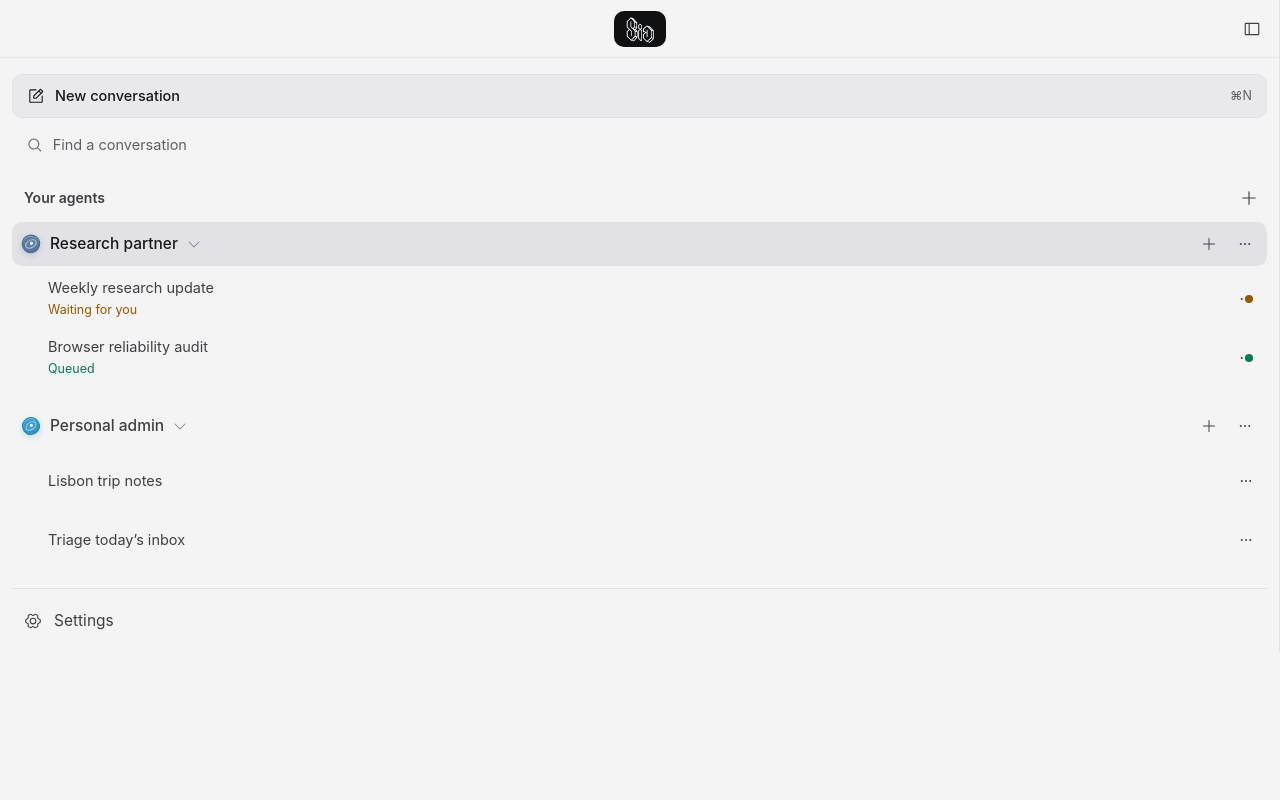
Test: thread navigation › names agent actions as agent actions
This screenshot has width=1280, height=800.
Press the mouse on the button named "Agent actions for Research partner" at [1245, 244], box top-left (1227, 226), bottom-right (1263, 262)
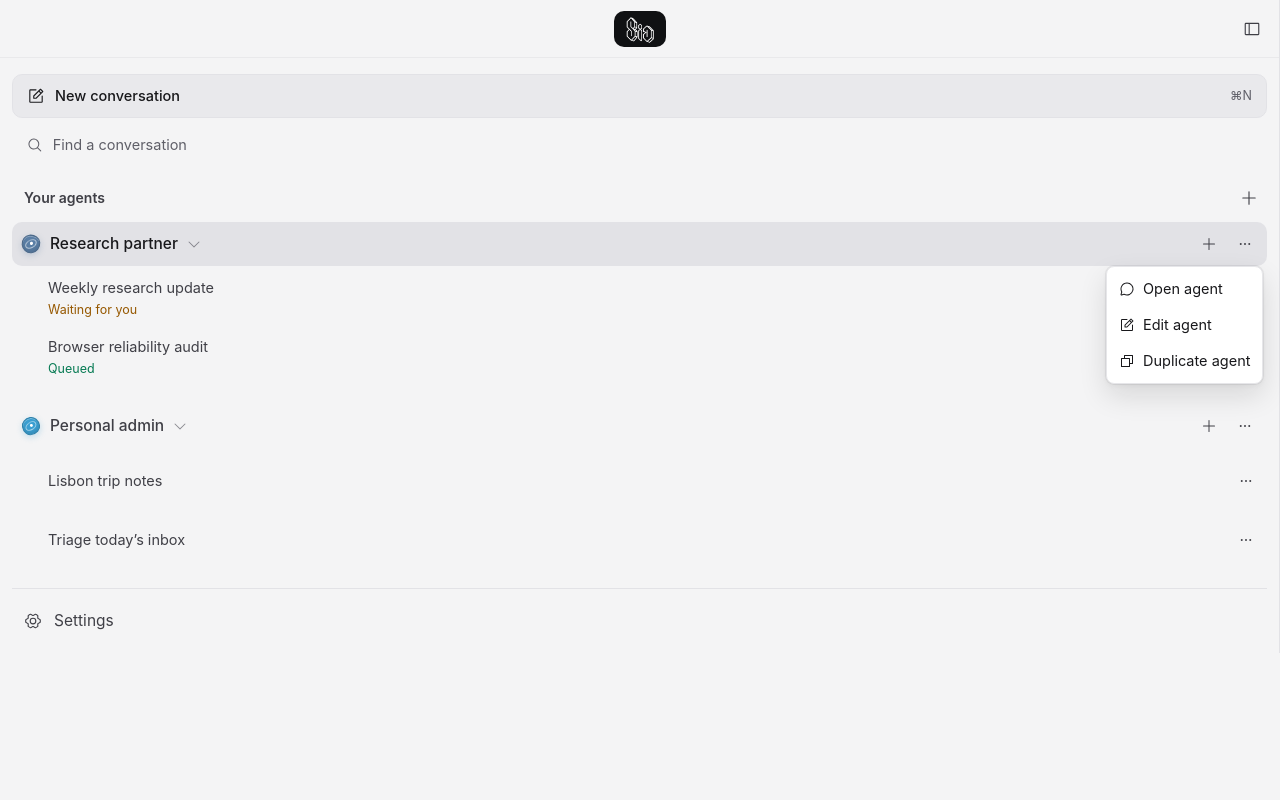
Expected: the menu item "Edit agent" is shown, top-left (1119, 316), bottom-right (1212, 334)
Expected: the menu item "Duplicate agent" is shown, top-left (1119, 352), bottom-right (1250, 370)
